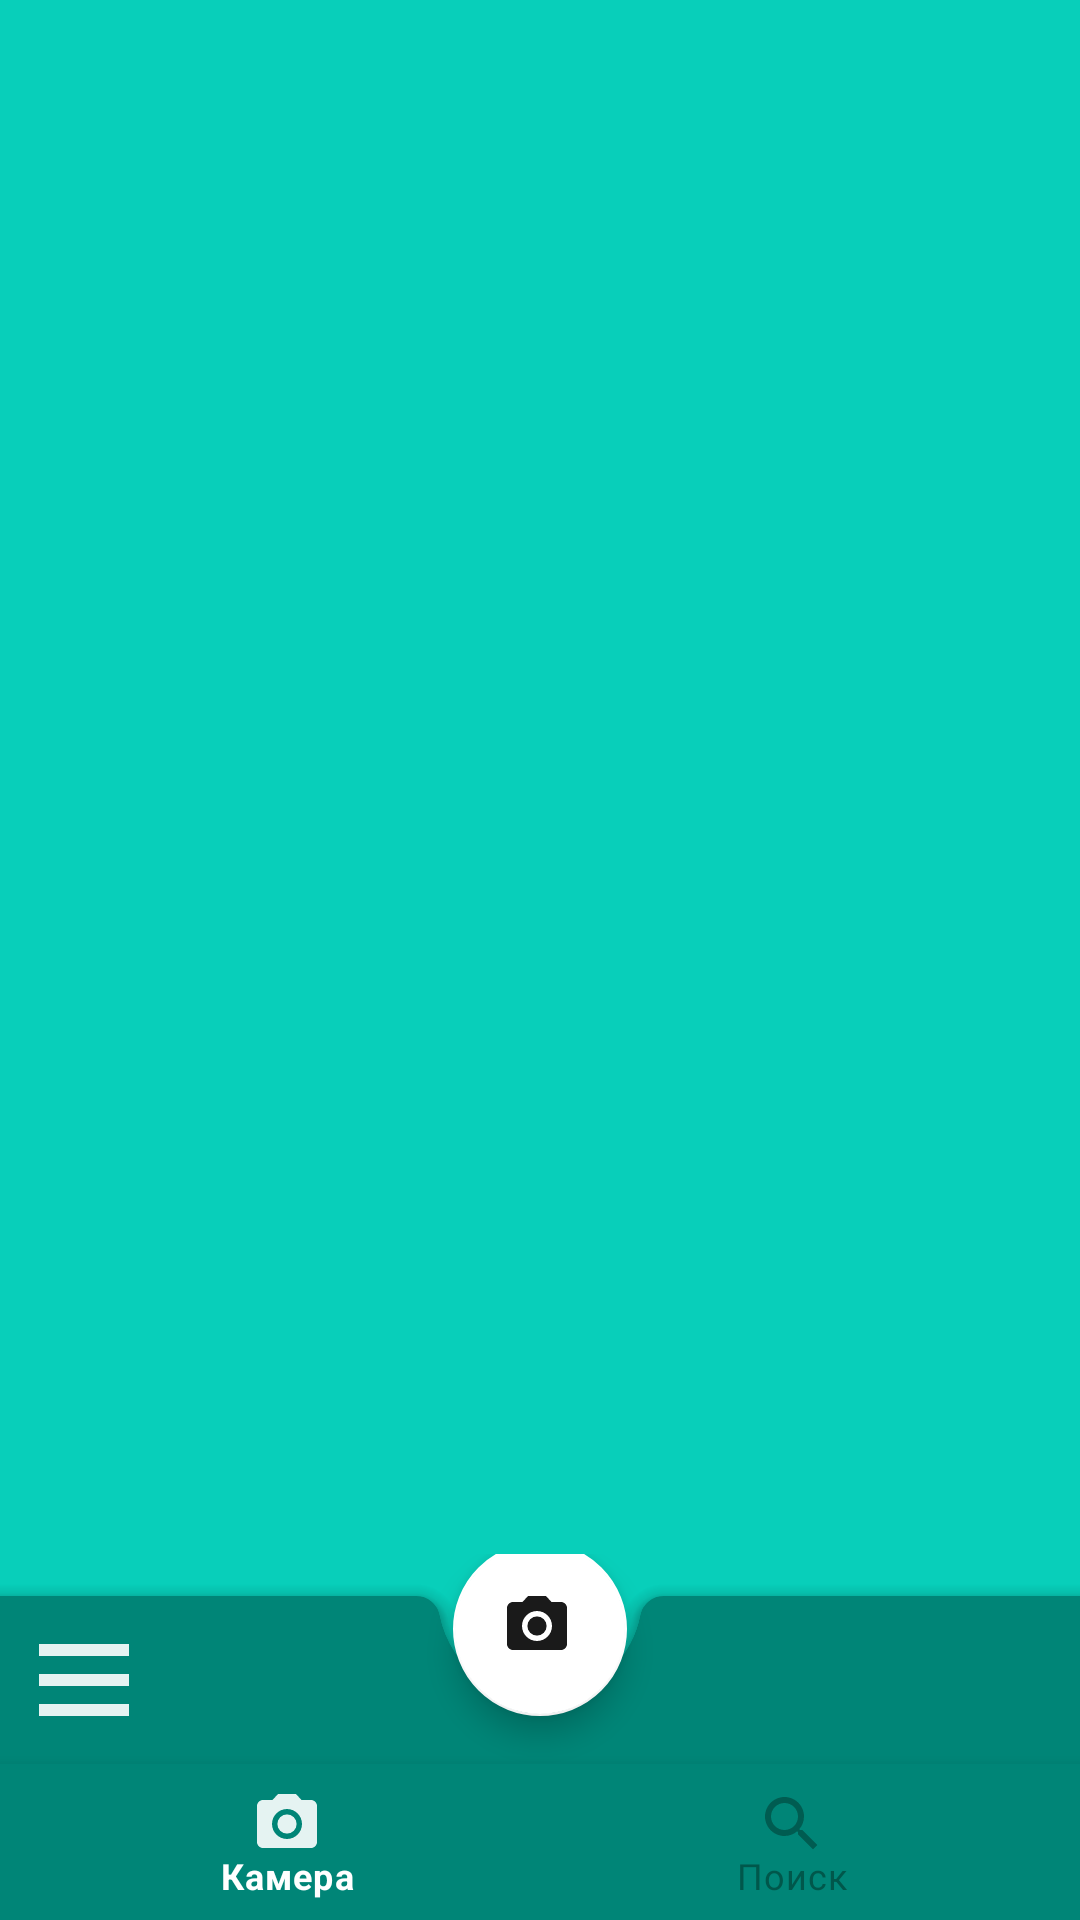

Named icons in this screenshot (1080x1920) and their centers, (x,y):
camera: (540,1635)
